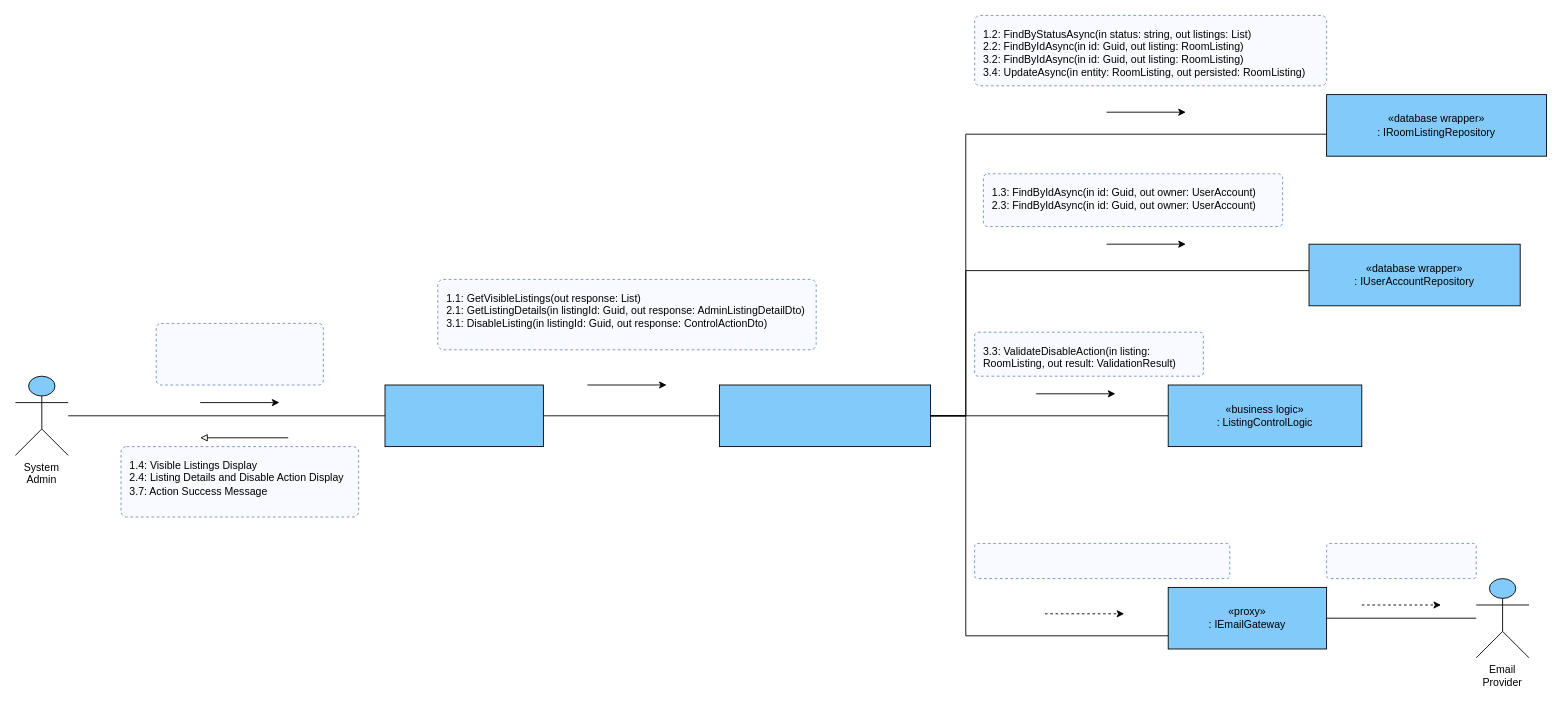
This 1562x705 diagram has some shape labels left out. The shapes that lost their labels are listed below. From the top down, each one's box as (x1, y1, x2, y2) in pixels, then its label:
(155, 323, 323, 385): 1: Listing Administration Access 2: Listing Selection 3: Disable Action Decision
(384, 384, 543, 447): «user interaction» : AdminUI
(719, 384, 931, 447): «coordinator» : ControlListingController
(974, 543, 1230, 579): 3.5: SendAsync(in notification: EmailMessage)
(1326, 543, 1476, 579): 3.6: Send Email Notification
